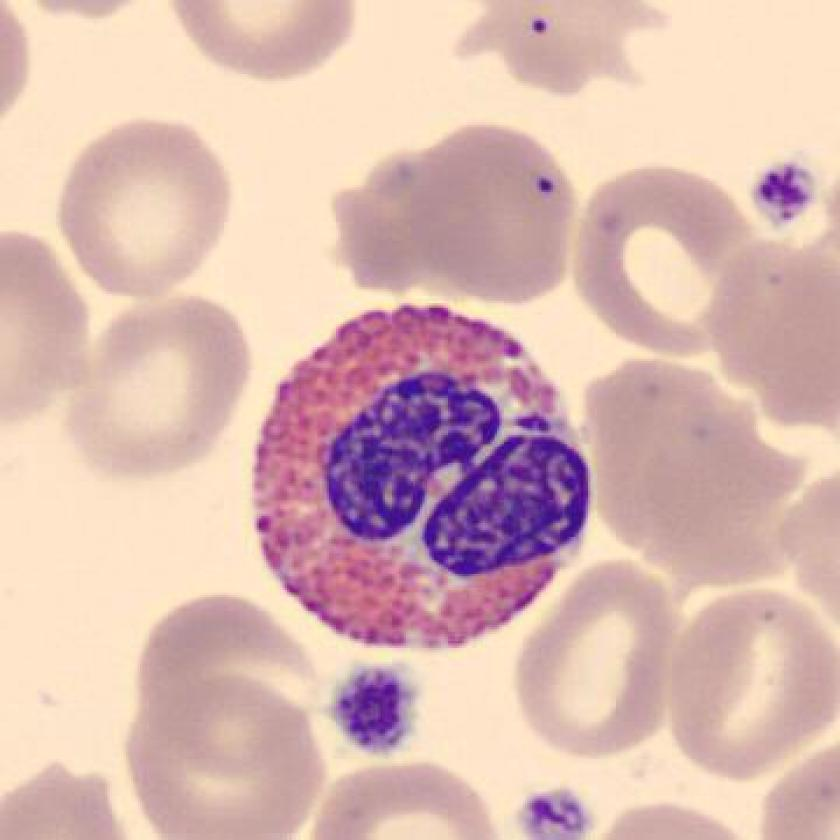eosinophil: (237, 290, 603, 672)
